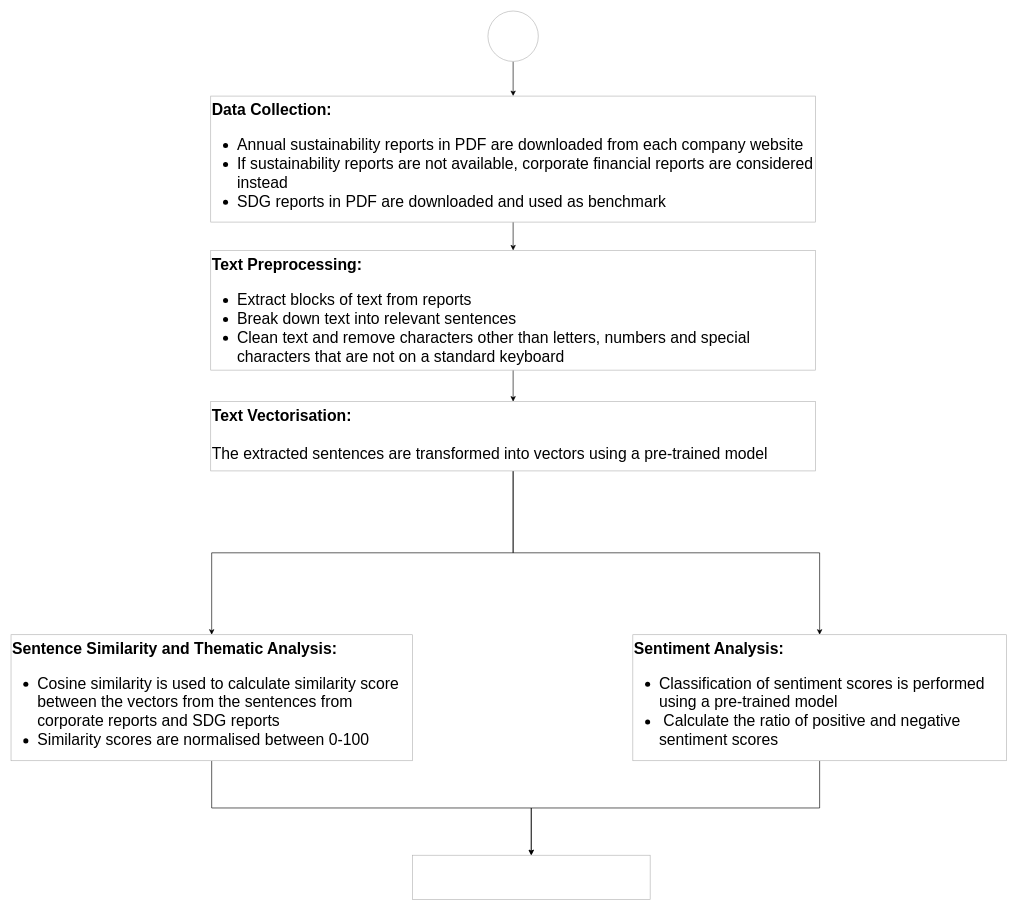
This 1017x910 diagram has some shape labels left out. The box of each missing label's shape, as (x1, y1, x2, y2) in pixels:
Start: (487, 10, 538, 61)
Visualisation: Aggregate multi-level groups: (412, 855, 650, 899)
